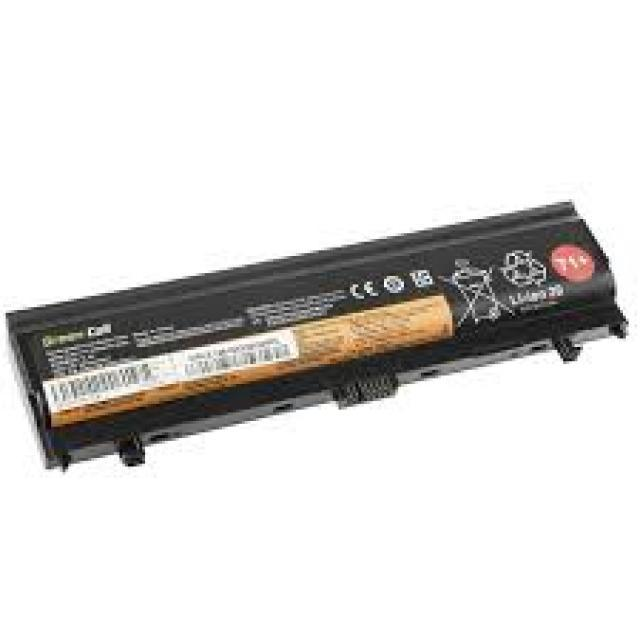battery: (8, 196, 632, 472)
